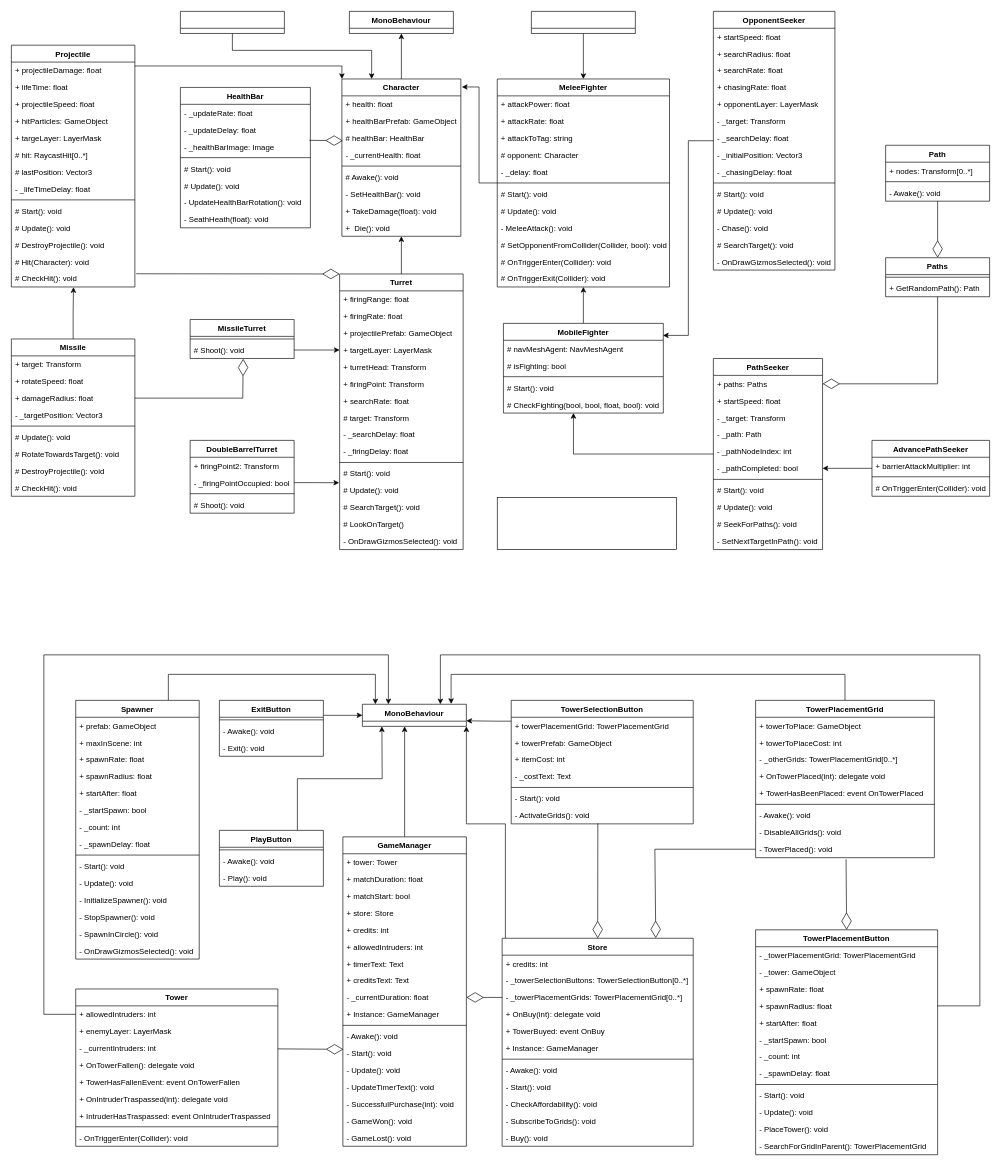
Some shapes in this 1001 by 1168 pixel diagram are drawn without their labels. The shapes that lost their labels are listed below. From the top down, each one's centre as x and y in pixels, then its label:
point (232, 22): Barrier
point (583, 22): Trap
point (587, 523): <<static>> Utilities + UpdateTimer(bool, ref float, in float, Action): void
